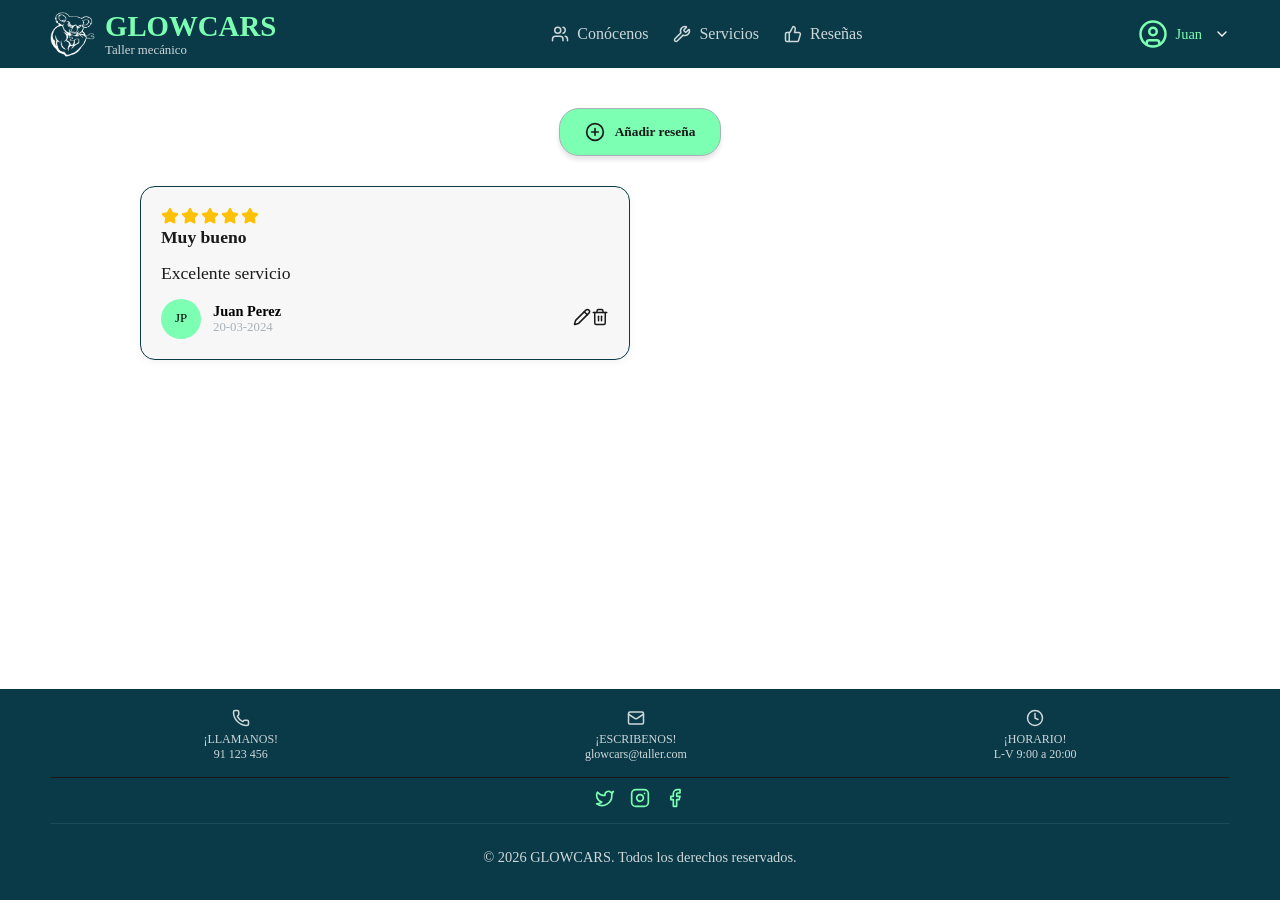
Test: Pruebas en <Resenas /> › debe abrir el modal de eliminación al hacer clic en borrar
Expected: the text "Excelente servicio" is shown, [161,263,290,283]
Click the icon with class "lucide-trash2" at (600, 317), box [591,308,609,326]
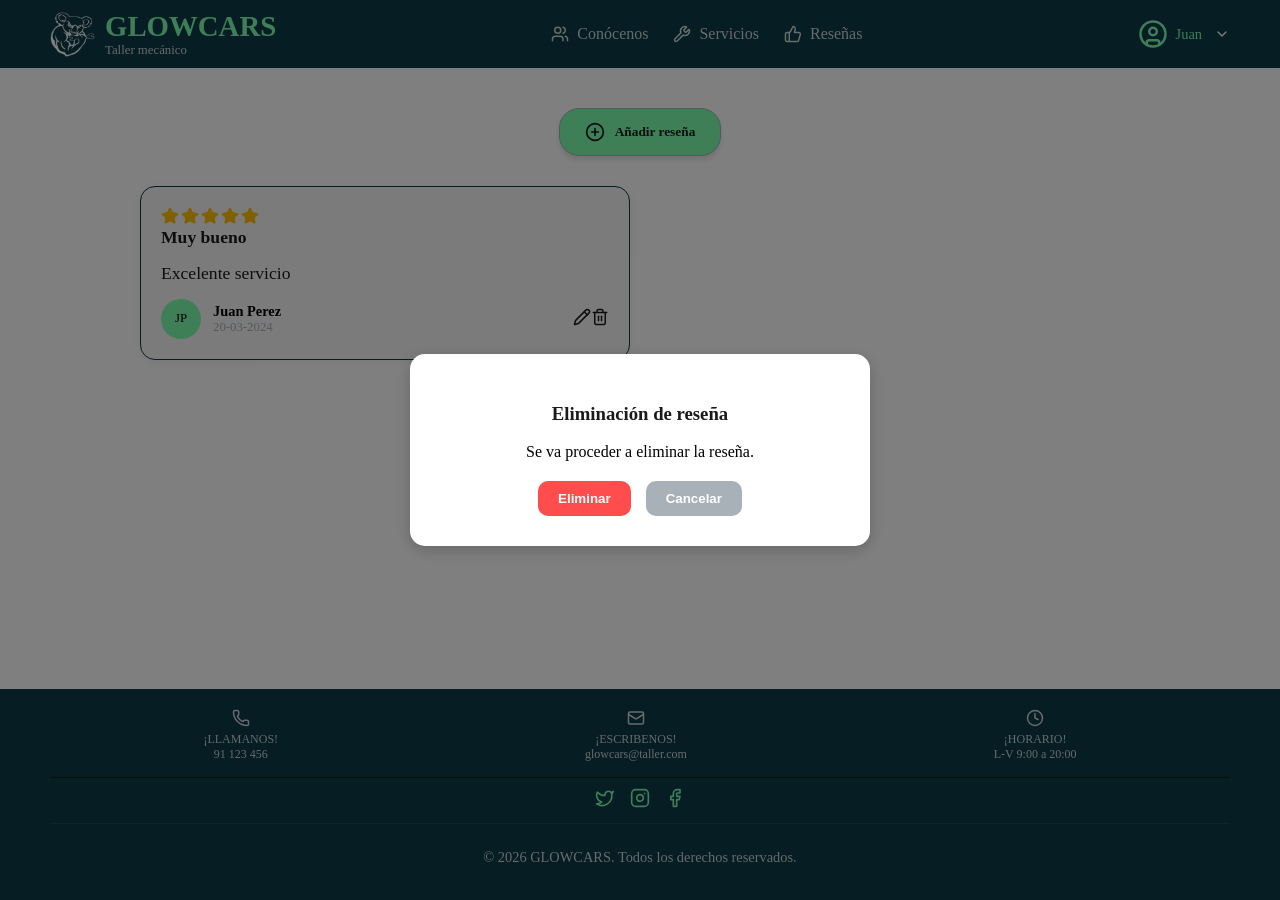
Now the heading "Eliminación de reseña" is shown, box [552,402,728,424]
Now the text "Se va proceder a eliminar la reseña." is shown, box [526,443,754,460]
